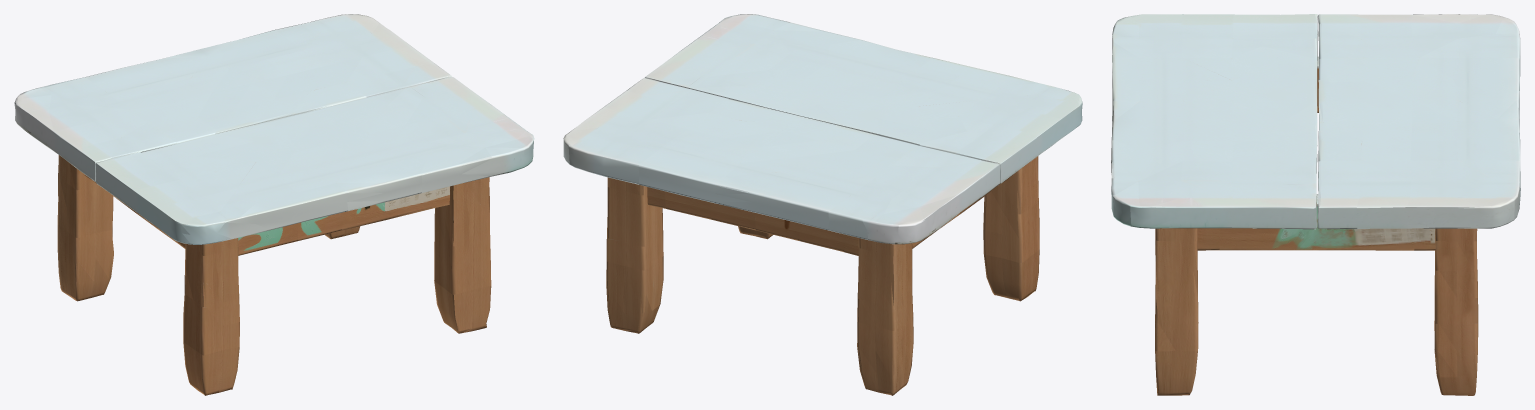
3 views of the same model, side by side, from view 1: azimuth 30°, elevation 25°; view 2: azimuth 150°, elevation 25°; view 3: azimuth 270°, elevation 25° (orthographic). The views are drawn at different scales.
Bounding box in the file's own units: 1 × 0.5121 × 0.9006.
1 material, 1 textured.
